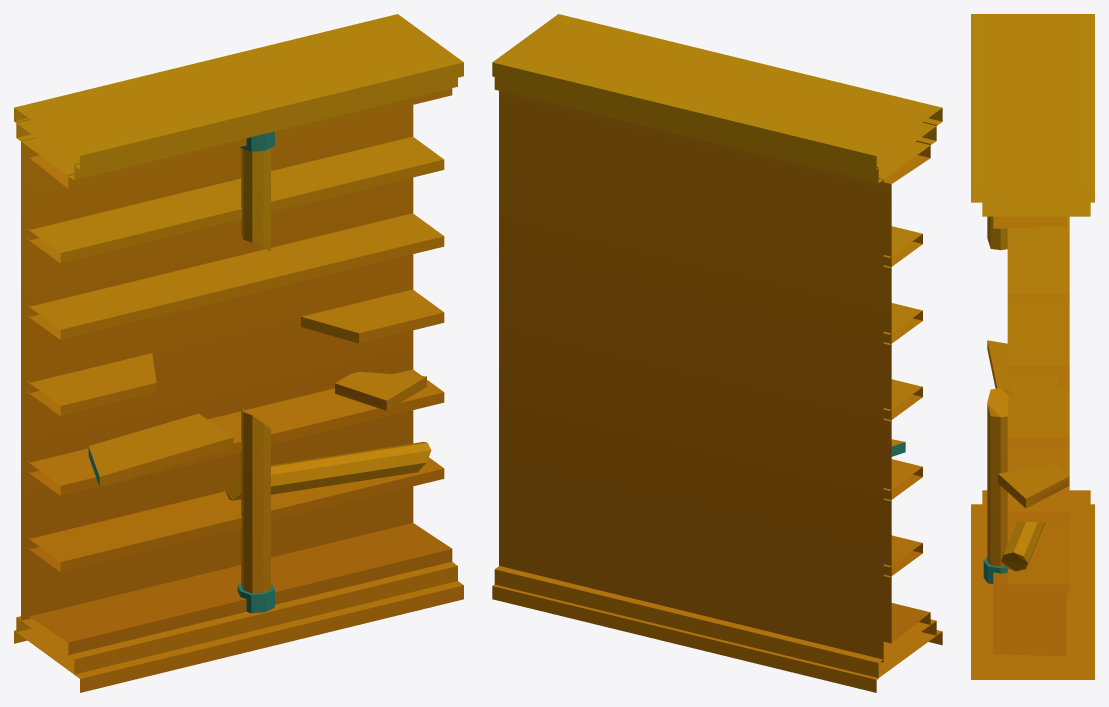
Rendered from Bookshelf 02 Center 02.fbx.
3 renders of one model, left to right at view 1: azimuth 30°, elevation 25°; view 2: azimuth 150°, elevation 25°; view 3: azimuth 270°, elevation 25°, orthographic. The views are drawn at different scales.
Visible parts, largest first — view 1: Bookshelf 02 Center 02; view 2: Bookshelf 02 Center 02; view 3: Bookshelf 02 Center 02.
Boxes of the visible parts, <box> form: Bookshelf 02 Center 02: <box>14,14,463,692</box>; Bookshelf 02 Center 02: <box>492,14,942,692</box>; Bookshelf 02 Center 02: <box>971,14,1094,679</box>.
Size of the model in its own units: 200 by 267 by 59.62.
